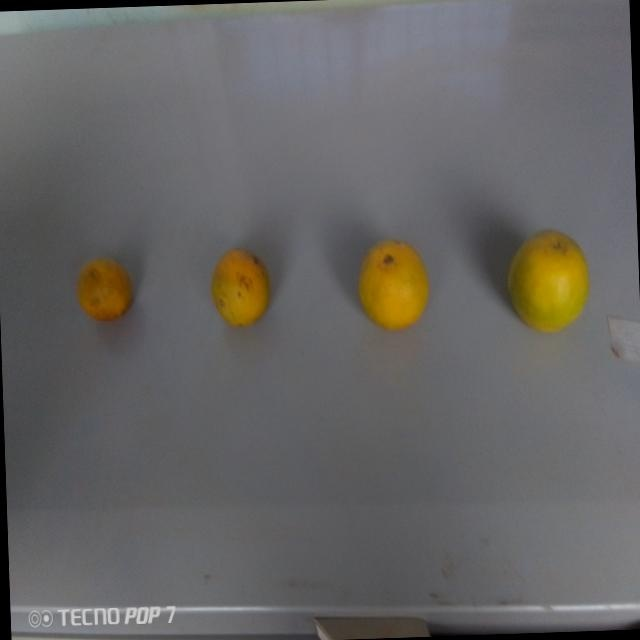agrume: (496, 217, 596, 335), (348, 230, 428, 336), (206, 242, 276, 336), (74, 252, 138, 328)
